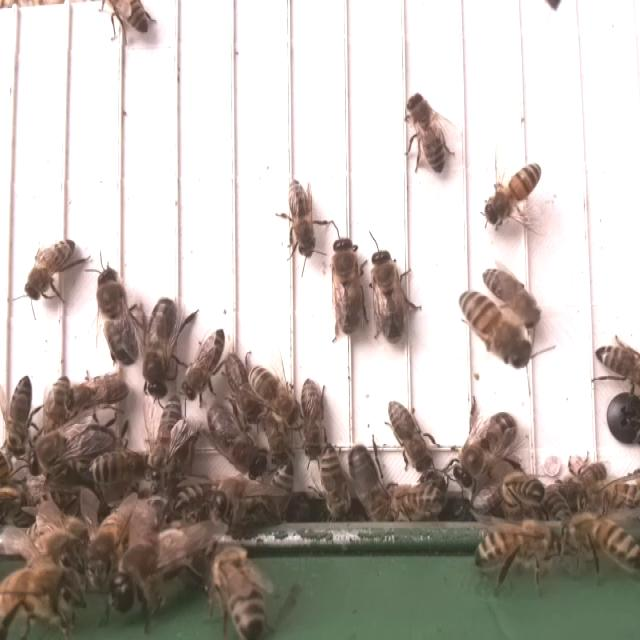Drone: (24, 414, 116, 478), (204, 402, 269, 482), (94, 264, 141, 369), (454, 410, 515, 490), (142, 293, 180, 403), (328, 232, 365, 341), (370, 246, 408, 344), (347, 439, 389, 522)
Worker: (457, 288, 531, 366), (474, 520, 561, 567), (480, 263, 541, 328), (484, 159, 542, 224), (406, 90, 449, 175), (22, 238, 78, 303), (386, 398, 435, 470), (247, 364, 304, 425), (182, 327, 229, 400), (63, 371, 132, 416), (221, 350, 260, 425), (0, 375, 34, 459), (153, 394, 186, 478), (286, 176, 319, 258), (89, 447, 149, 490), (298, 372, 327, 457), (320, 440, 350, 519), (592, 340, 640, 384)
